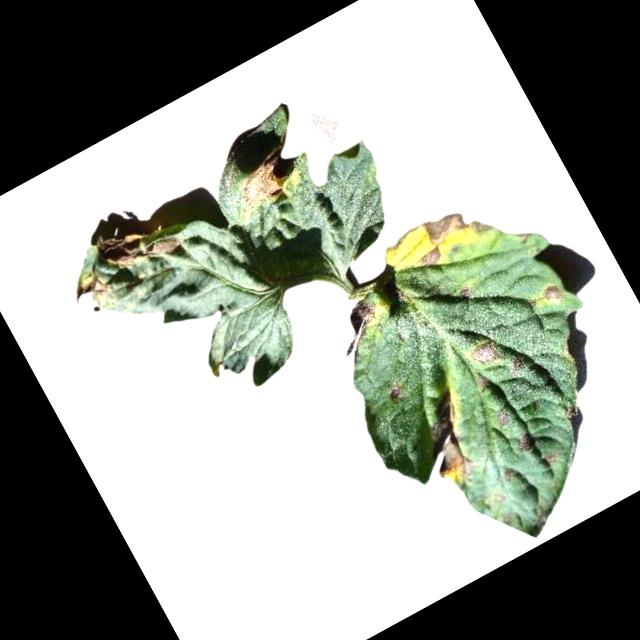Early_blight: (400, 193, 495, 274), (90, 204, 184, 284), (407, 396, 486, 485), (219, 144, 301, 218), (324, 294, 392, 362), (63, 264, 119, 320), (466, 330, 506, 370), (510, 429, 538, 457), (538, 280, 563, 304), (507, 351, 529, 376), (491, 410, 514, 433), (380, 380, 404, 401), (540, 448, 560, 467), (456, 281, 474, 299), (499, 466, 516, 482)
